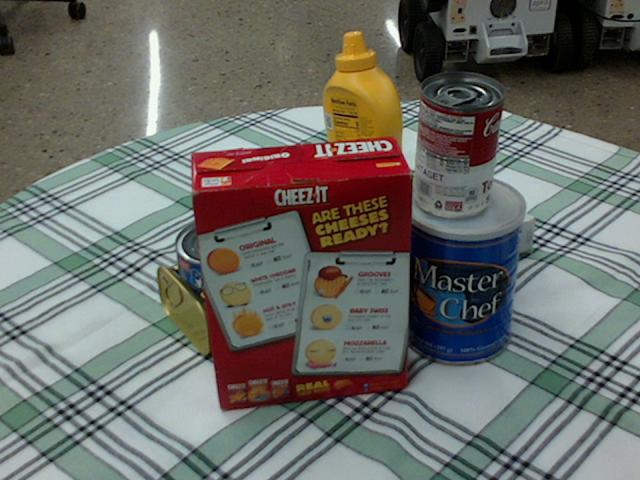cracker_box: (184, 136, 410, 408)
gelatin_box: (305, 176, 403, 248)
master_chef_can: (401, 172, 526, 364)
mug: (266, 212, 366, 330)
mustard_bottle: (322, 32, 411, 227)
potted_meat_can: (158, 245, 285, 354)
sugar_box: (348, 185, 533, 305)
tomato_soup_can: (413, 72, 502, 217)
tuna_fish_can: (175, 215, 269, 294)
